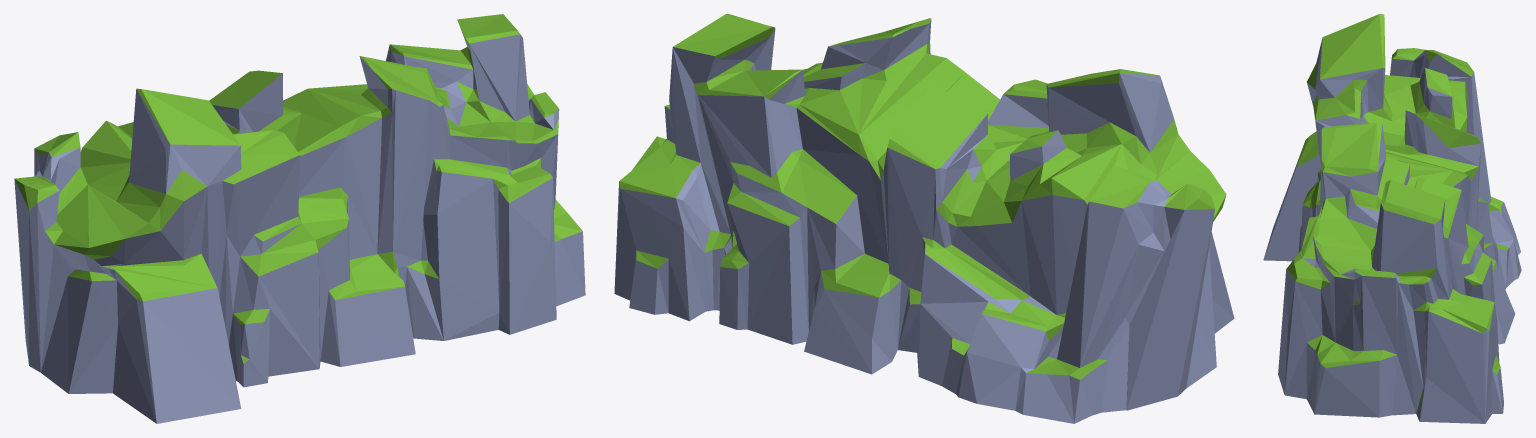
Rendered from Rock_Formation_2.fbx.
The picture shows the model from 3 angles, left to right: view 1: azimuth 30°, elevation 25°; view 2: azimuth 150°, elevation 25°; view 3: azimuth 270°, elevation 25°; orthographic projection. The views are drawn at different scales.
Parts seen in each view (by area): view 1: Rock_Formation_2; view 2: Rock_Formation_2; view 3: Rock_Formation_2.
Boxes of the visible parts, left/top/right/bottom form: Rock_Formation_2: left=14, top=14, right=585, bottom=423; Rock_Formation_2: left=614, top=14, right=1234, bottom=423; Rock_Formation_2: left=1263, top=14, right=1521, bottom=423.
Size of the model in its own units: 21.17 by 10.58 by 10.58.
